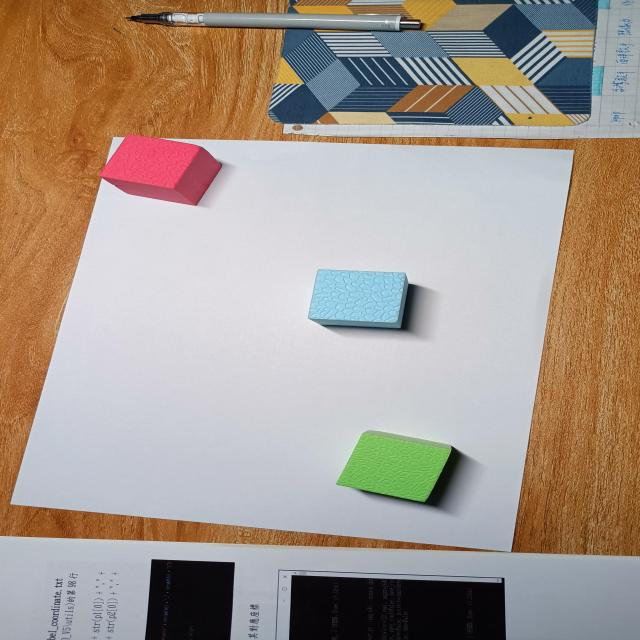BLUE: (307, 269, 409, 330)
GREEN: (337, 430, 452, 503)
RED: (97, 134, 224, 206)
